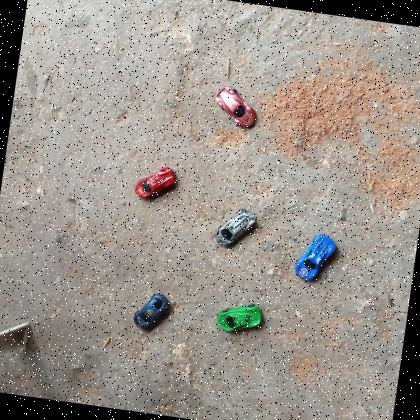Car: (292, 232, 338, 286), (212, 204, 258, 253), (214, 297, 266, 340), (212, 84, 260, 130), (132, 162, 179, 204), (132, 290, 171, 334)
